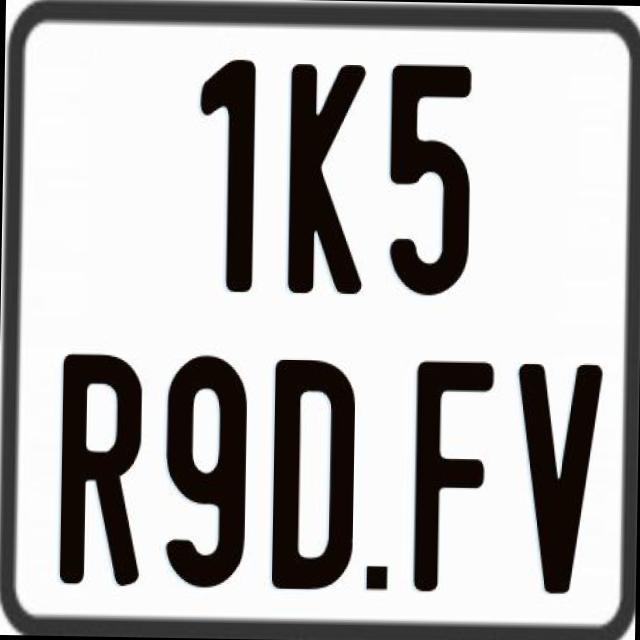1: (195, 57, 261, 292)
5: (386, 59, 476, 297)
9: (163, 351, 249, 586)
D: (272, 359, 360, 591)
F: (412, 358, 494, 594)
K: (283, 60, 367, 290)
R: (56, 349, 142, 582)
V: (510, 363, 600, 600)
